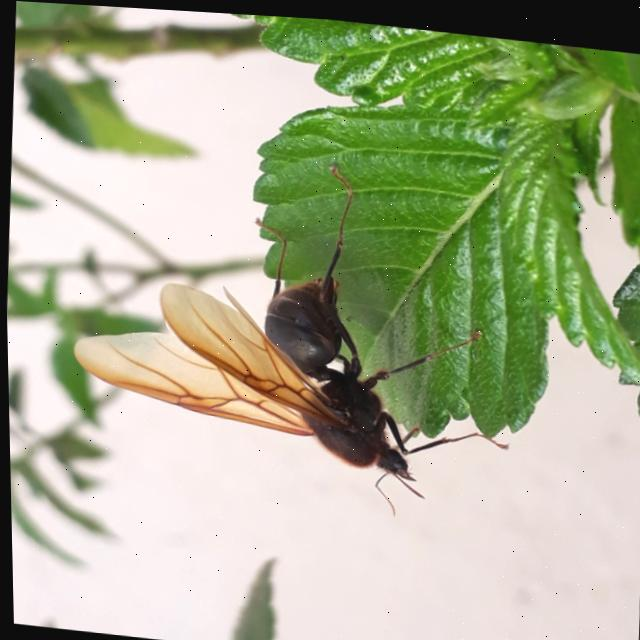Alive-Male-Alate: (61, 134, 522, 523)
